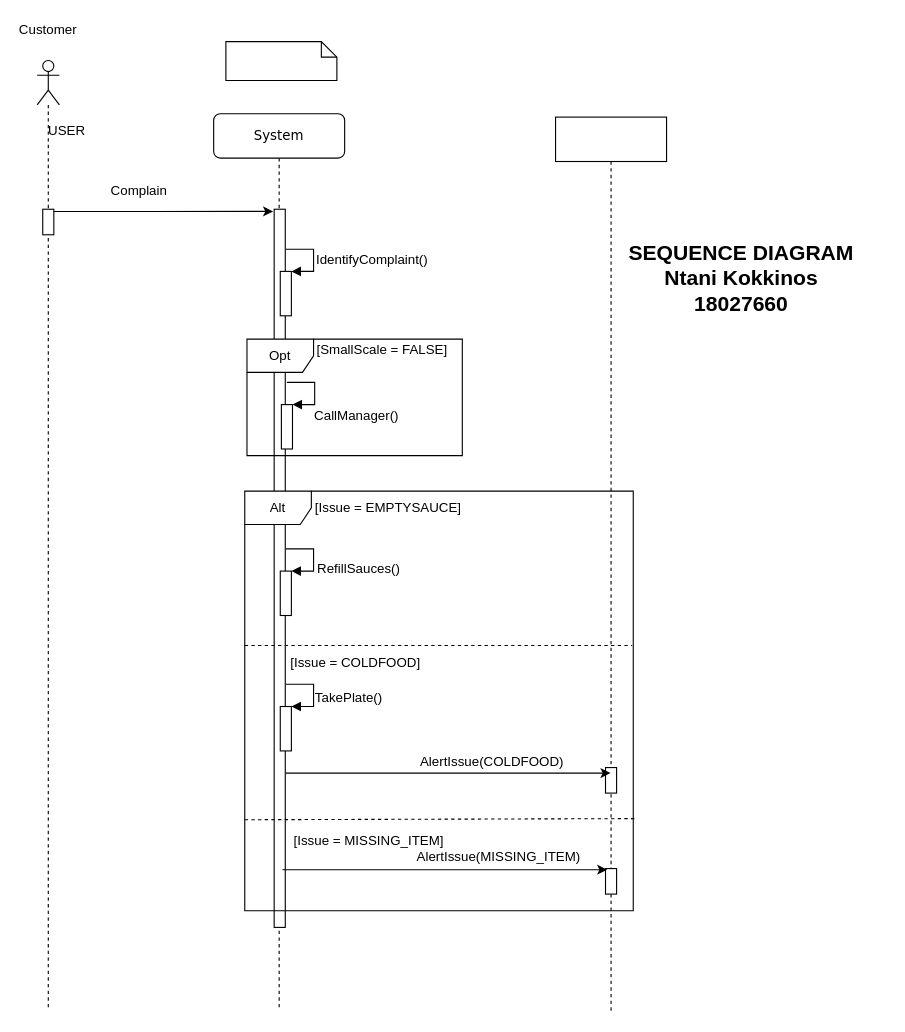
Some shapes in this 905 by 1032 pixel diagram are drawn without their labels. The box of each missing label's shape, as (x1, y1, x2, y2) in pixels:
Kitchen: (554, 116, 667, 1013)
Robot Waiter: (225, 41, 337, 80)
